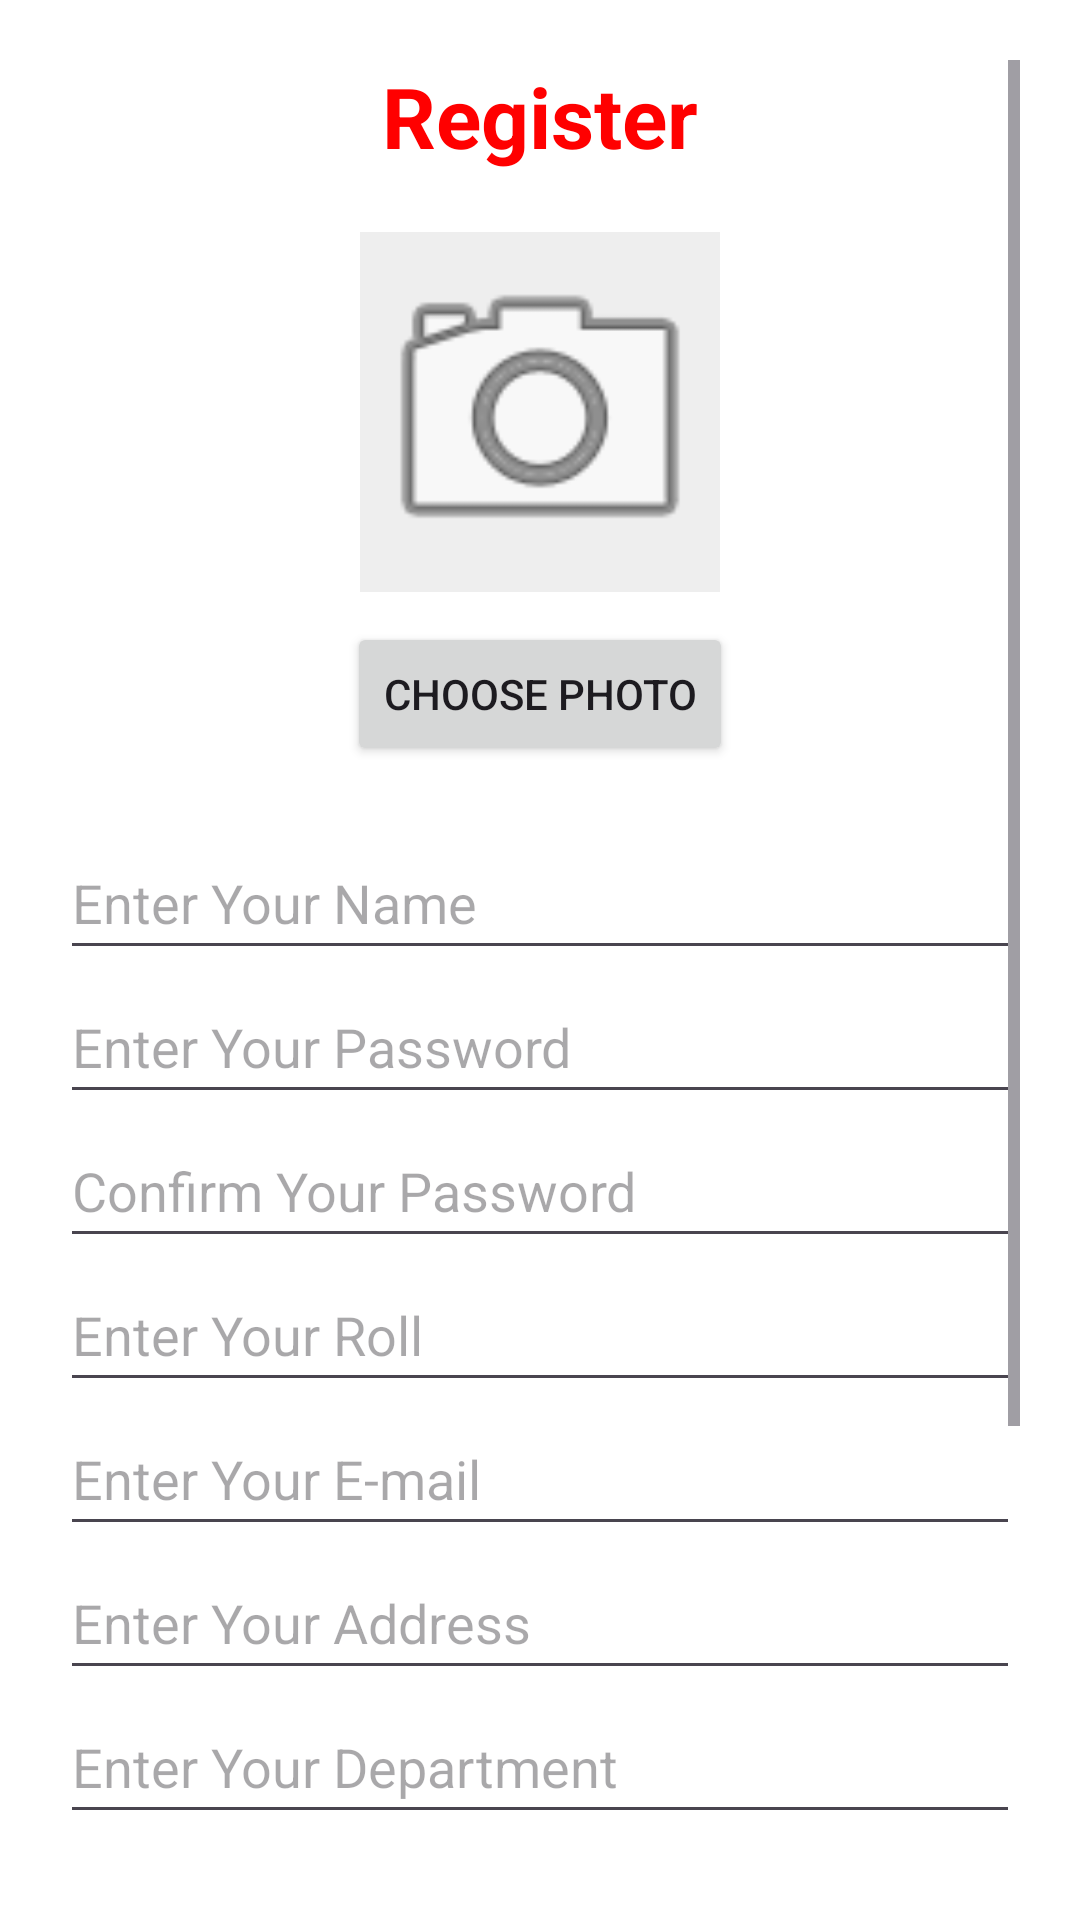

Screen size 1080*1920. Icon name, then its box in pixels as (x1, y1, x2, y2):
camera: (360, 232, 720, 592)
